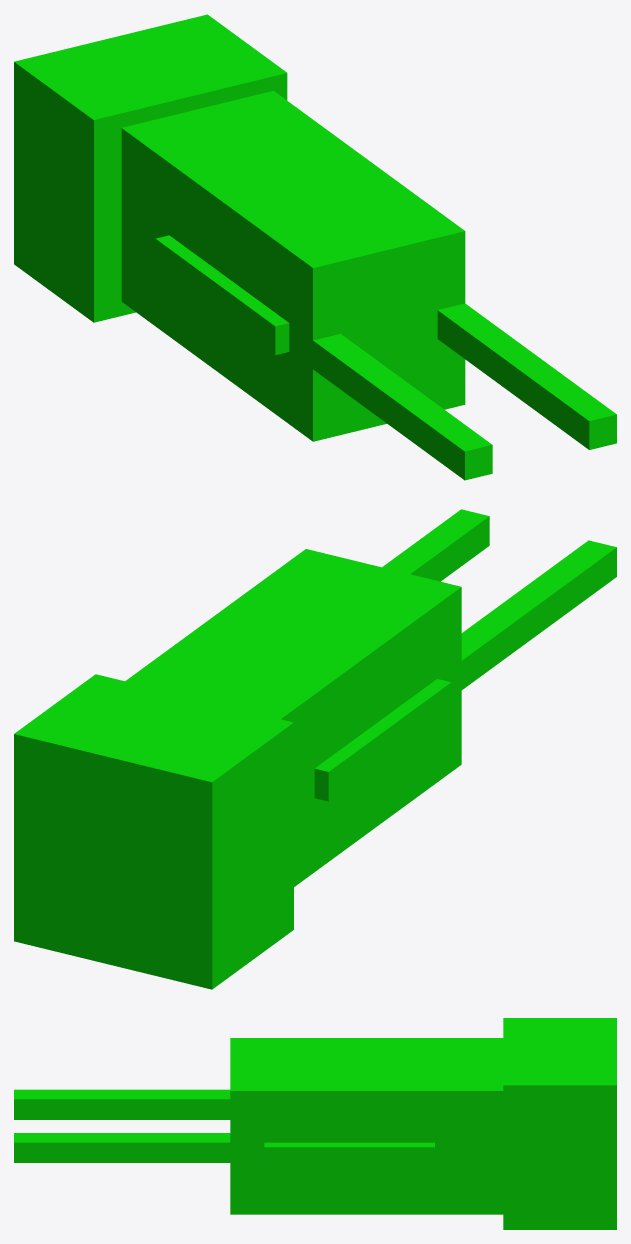
File: alien.dae
3 renders of one model, top to bottom at view 1: azimuth 30°, elevation 25°; view 2: azimuth 150°, elevation 25°; view 3: azimuth 270°, elevation 25°, orthographic. The views are drawn at different scales.
Parts seen in each view (by area): view 1: alien; view 2: alien; view 3: alien.
Part boxes in pixels (box(x1,y1,x2,y2)): alien: box(14, 14, 616, 480); alien: box(14, 509, 616, 989); alien: box(14, 1018, 616, 1229).
Size of the model in its own units: 1.4 by 5.3 by 1.4.
